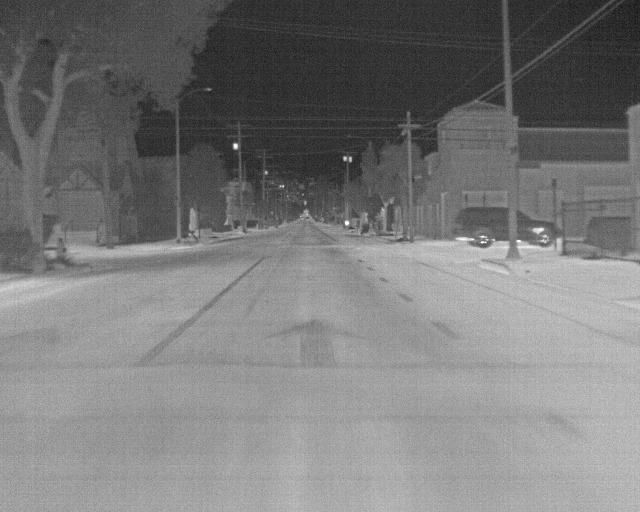car: (456, 204, 508, 248), (517, 209, 555, 246)
